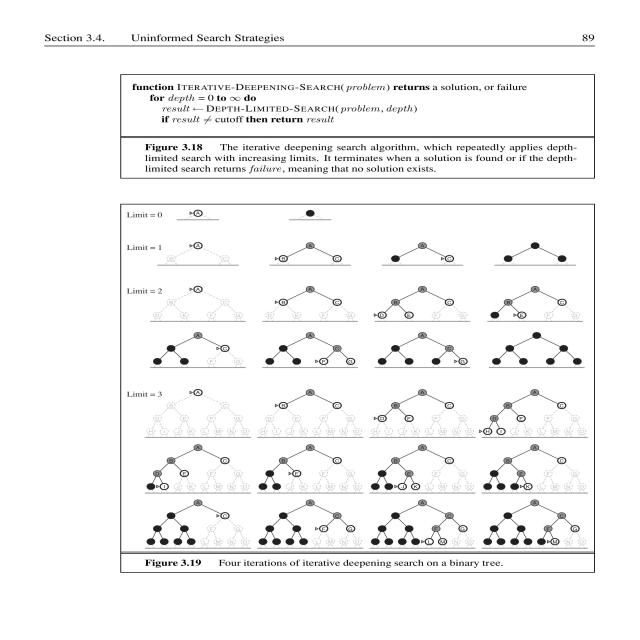diagram: (110, 196, 640, 631)
